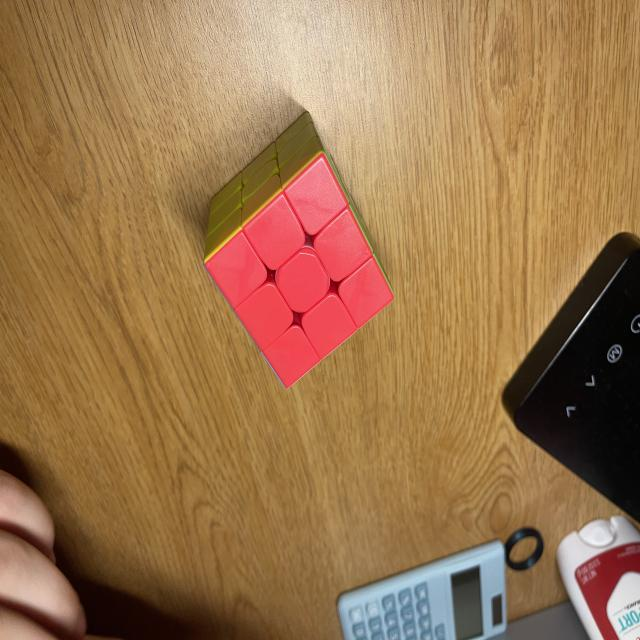Rubiks Cube: (203, 111, 393, 390)
